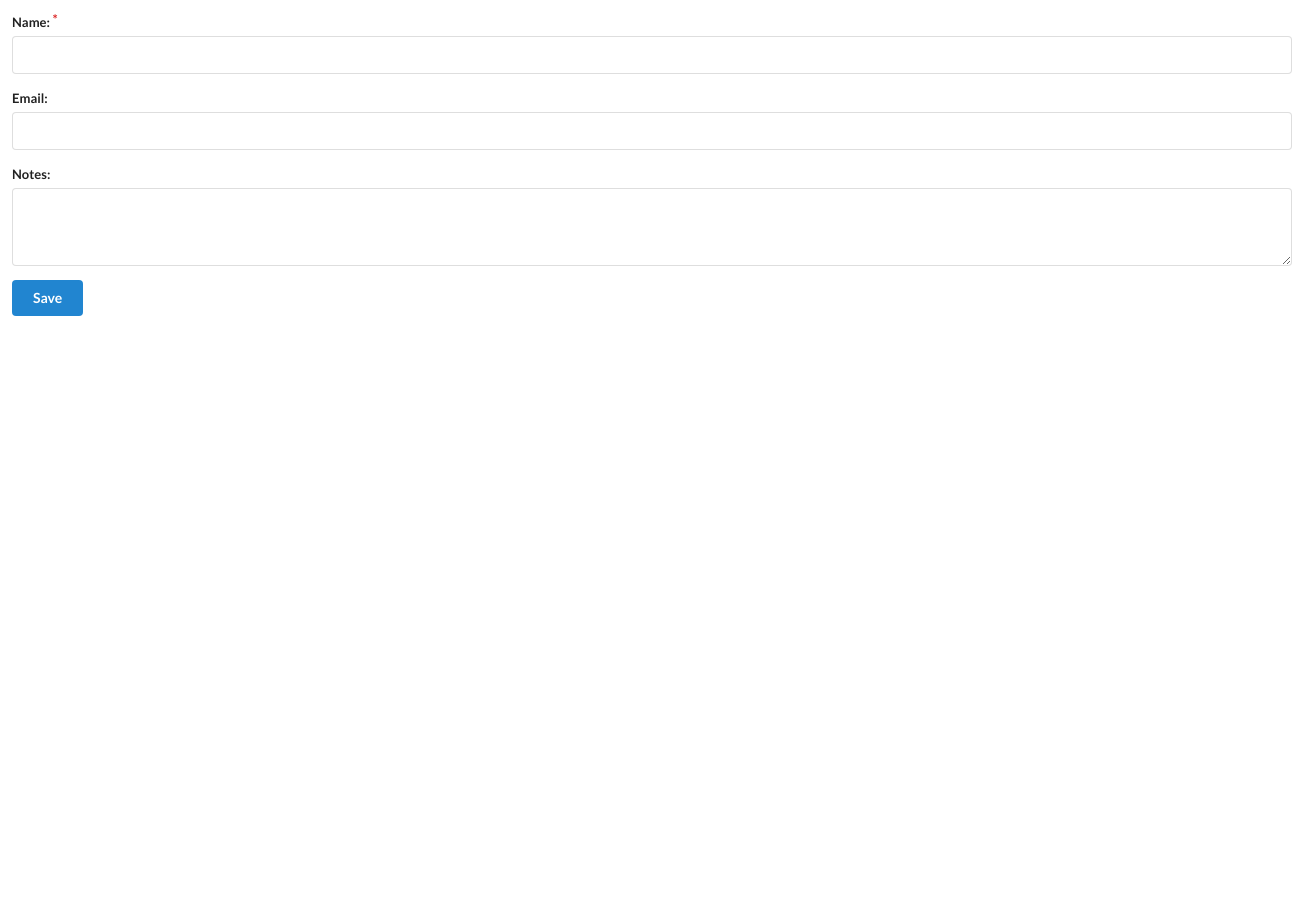
Test case: VoterEditorContainer › Posts new voter on save if not editing existing voter
The image size is (1304, 912).
Type "Foo Bar" into the field labelled "Name:" at (652, 55), box [12,36,1292,74]
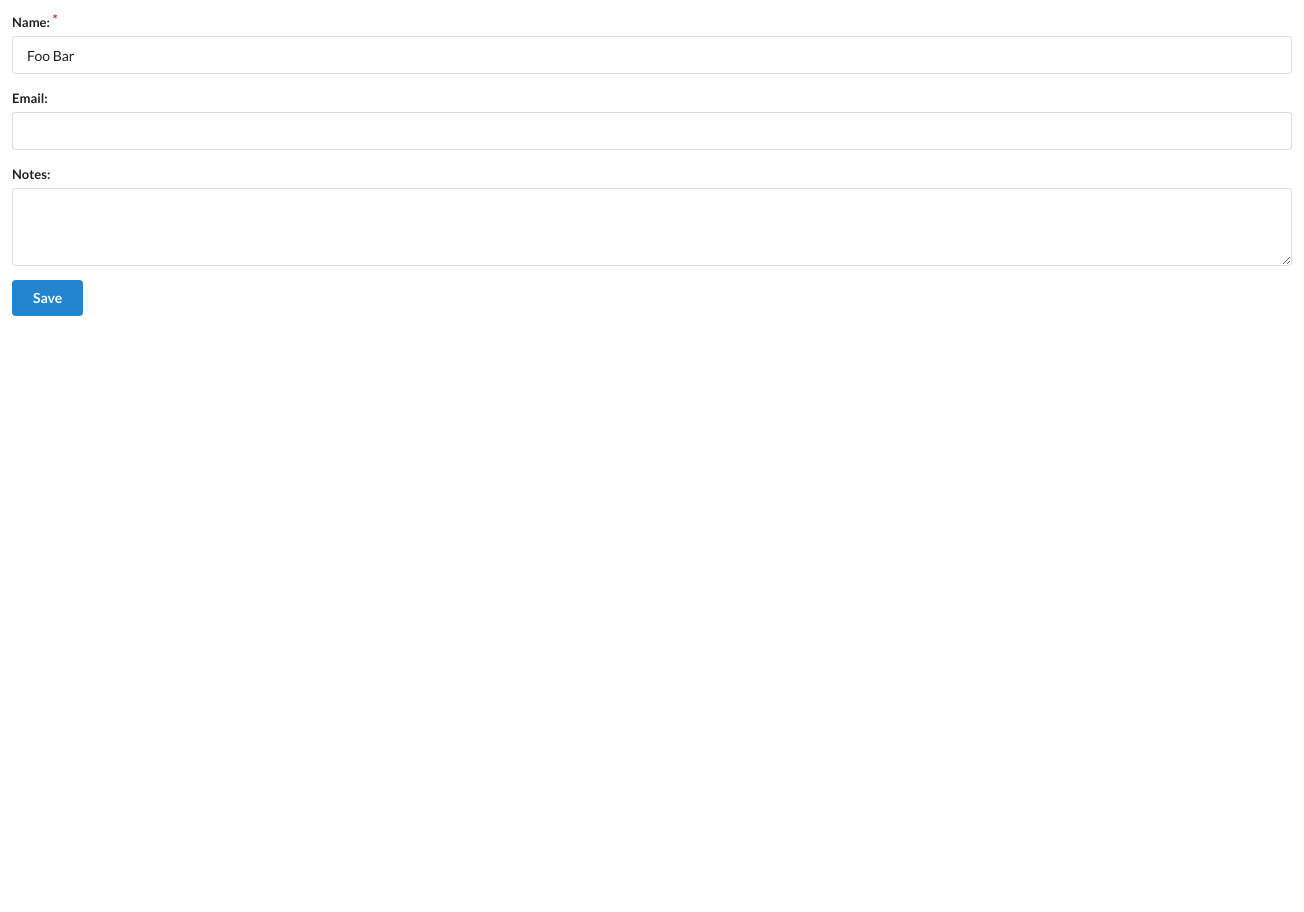
Type "foo@bar.baz" into the field labelled "Email:" at (652, 131), box [12,112,1292,150]
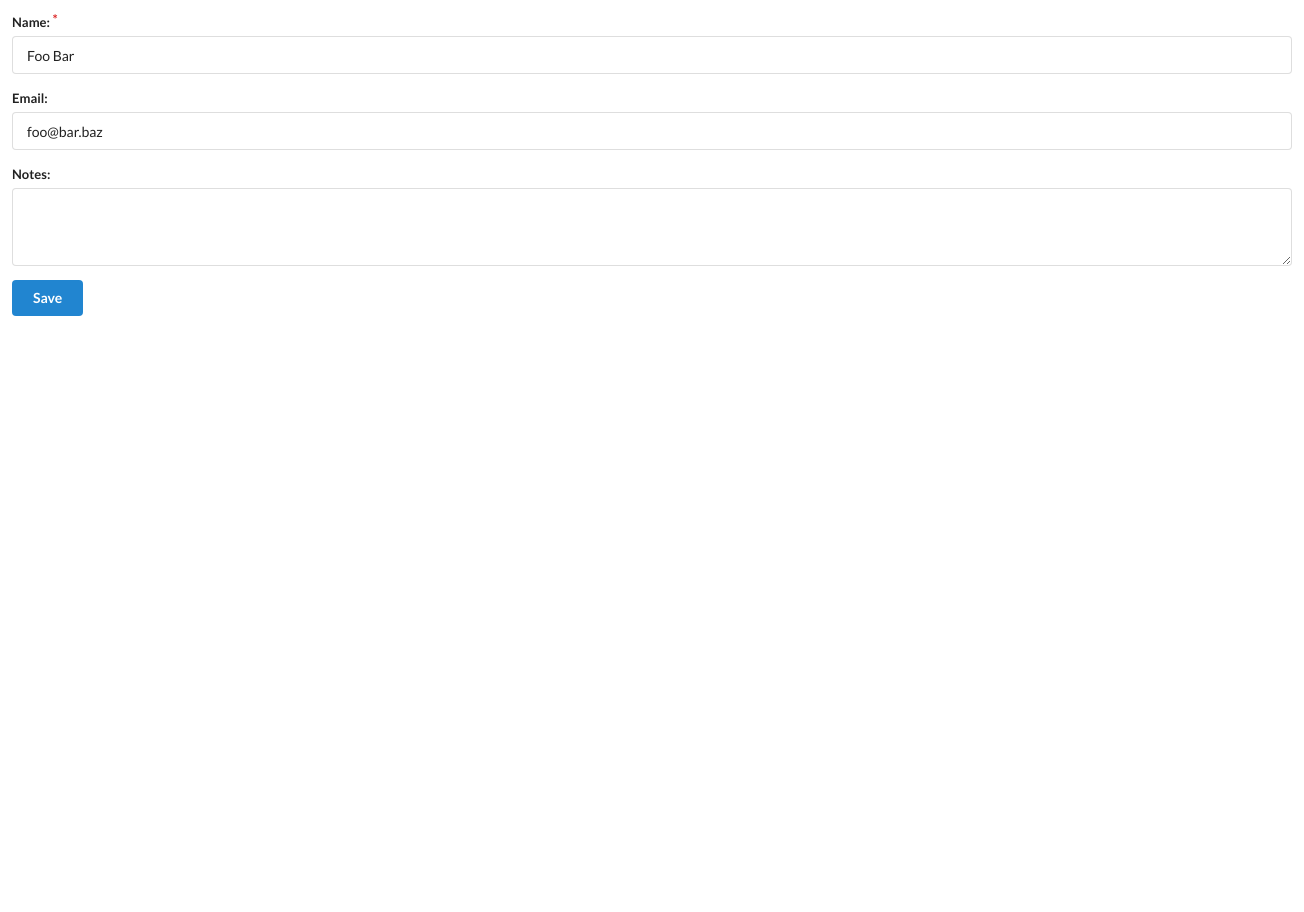
Type "Qux" into the text box labelled "Notes:" at (652, 227), box [12,188,1292,266]
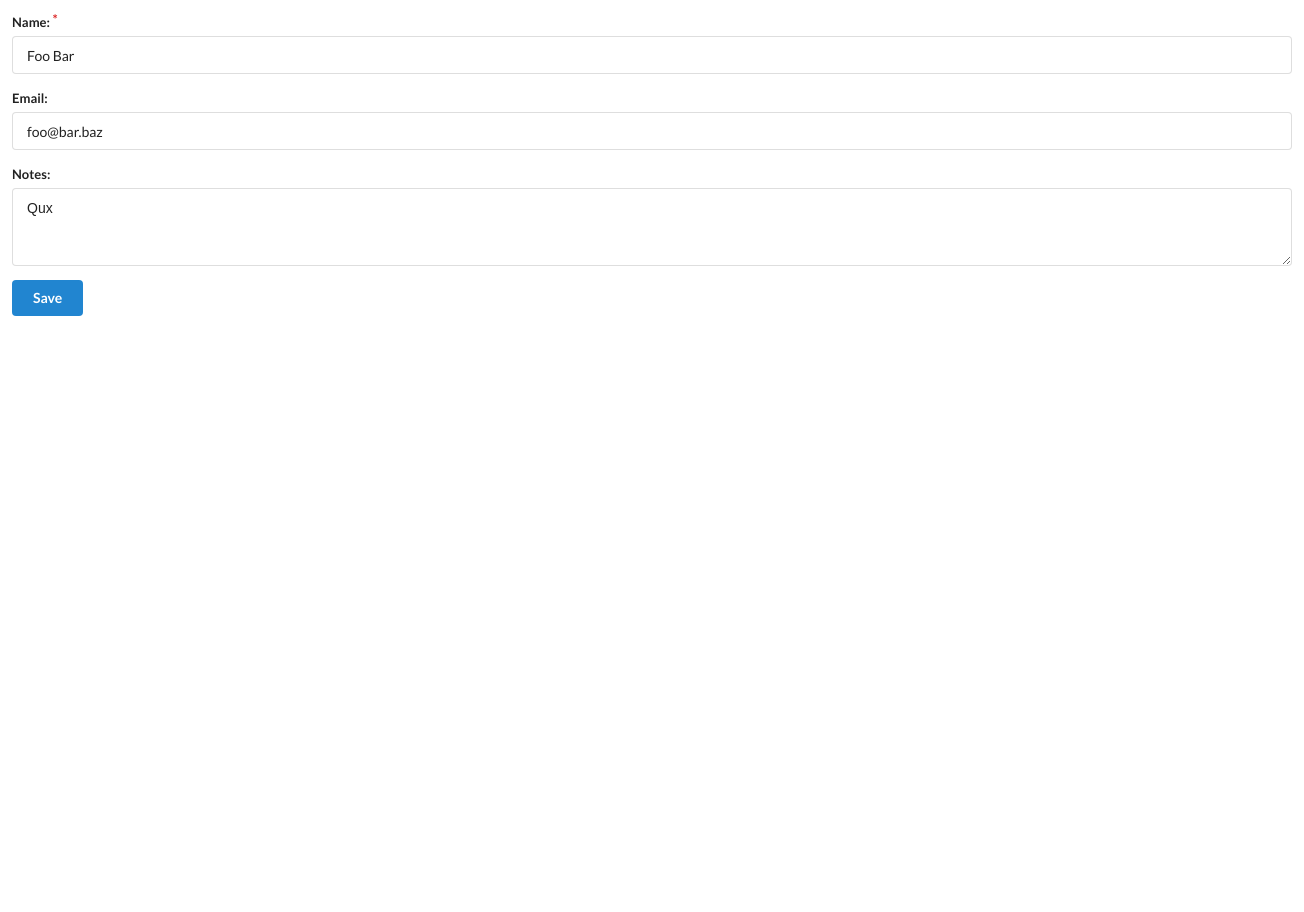
Click the button "Save" at (48, 298), box [12,280,83,316]
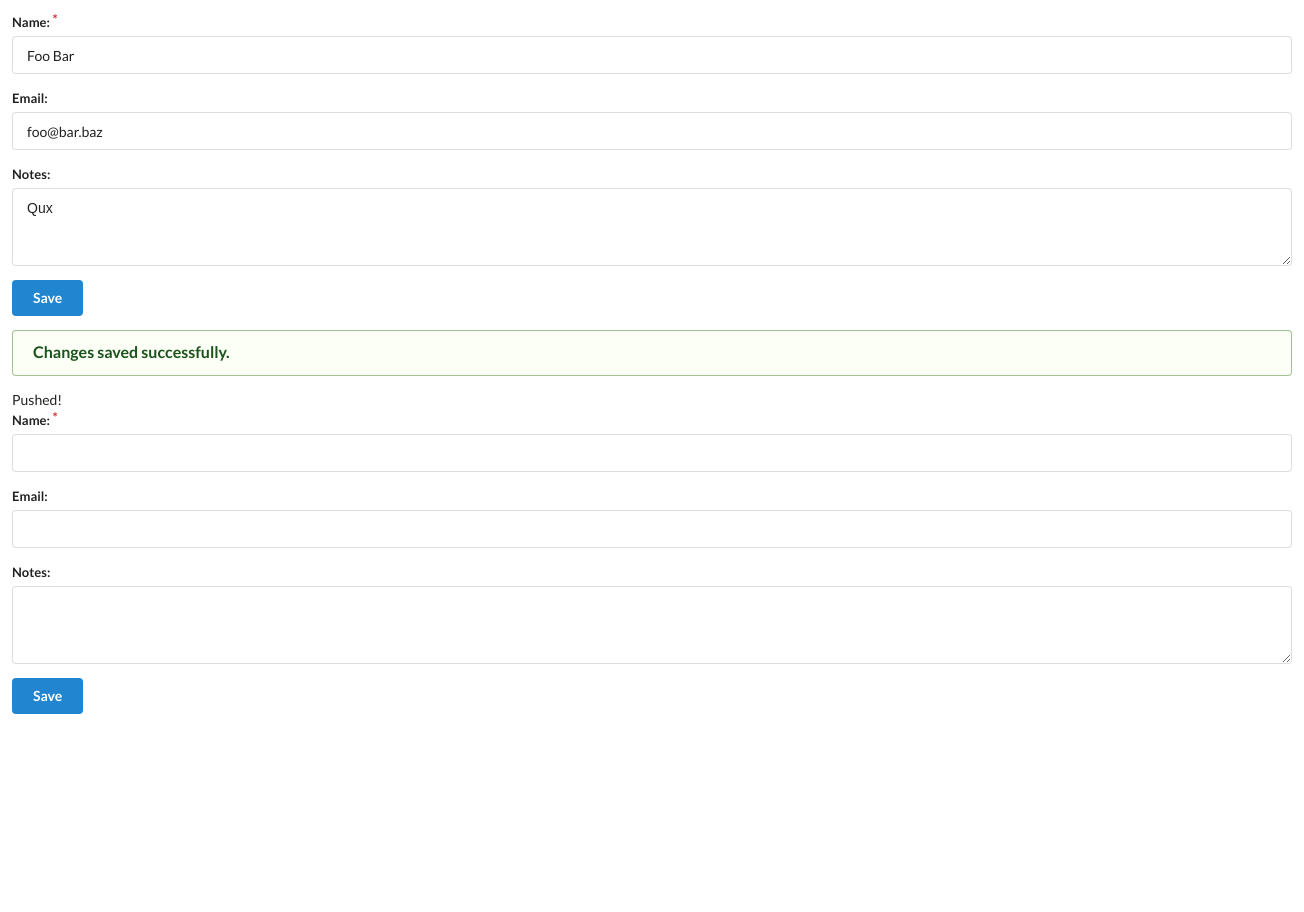
Check: the text "Changes saved successfully." is shown, box [33,342,230,361]
Check: the text "Pushed!" is shown, box [12,391,62,408]
